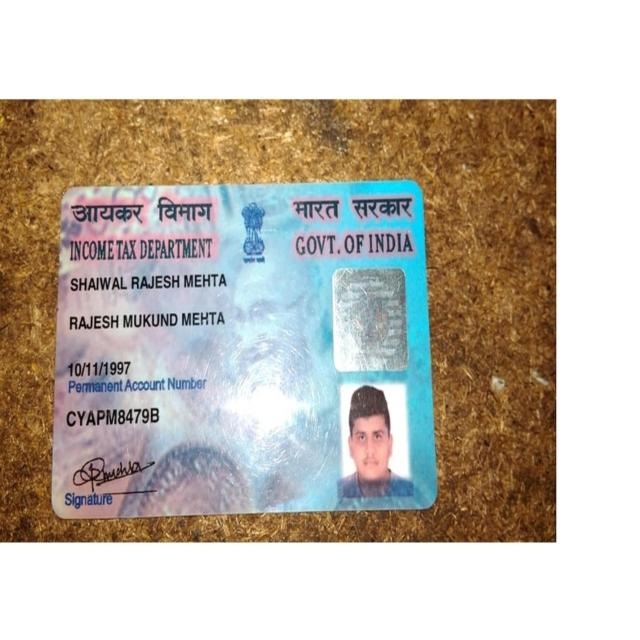pan_card: (55, 180, 436, 517)
